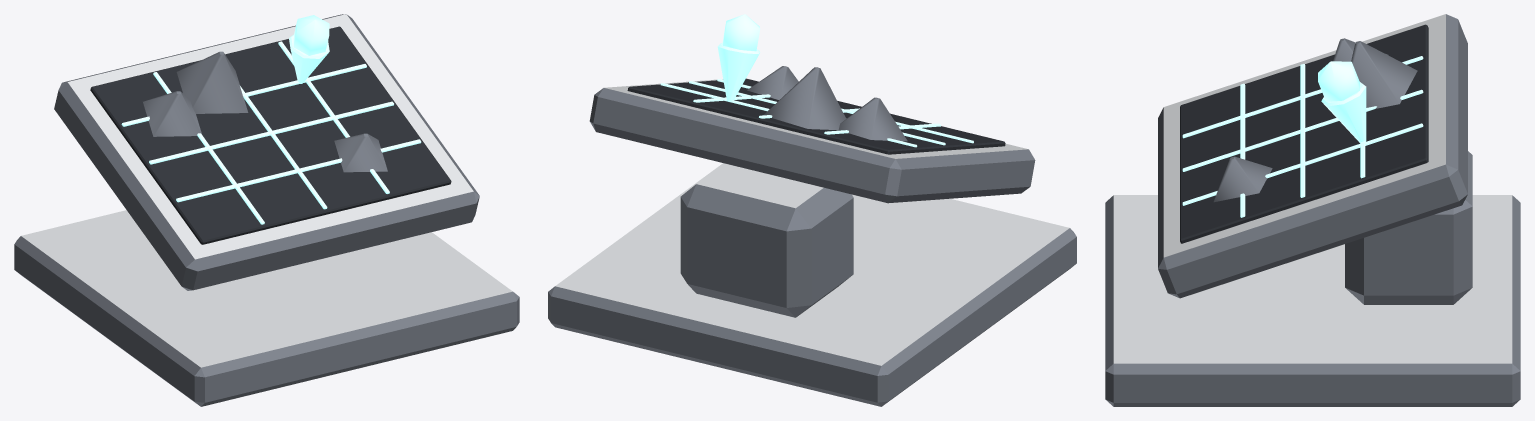
The model's file is R4X_Minimap_LOD1.fbx.
The picture shows the model from 3 angles, left to right: view 1: azimuth 30°, elevation 25°; view 2: azimuth 150°, elevation 25°; view 3: azimuth 270°, elevation 25°; orthographic projection. The views are drawn at different scales.
Parts seen in each view (by area): view 1: R4X_Minimap_LOD1; view 2: R4X_Minimap_LOD1; view 3: R4X_Minimap_LOD1.
Part boxes in pixels (x1=…): R4X_Minimap_LOD1: x1=14, y1=14, x2=519, y2=406; R4X_Minimap_LOD1: x1=548, y1=14, x2=1076, y2=406; R4X_Minimap_LOD1: x1=1105, y1=14, x2=1520, y2=406.
Size of the model in its own units: 0.52 by 0.403 by 0.52.
